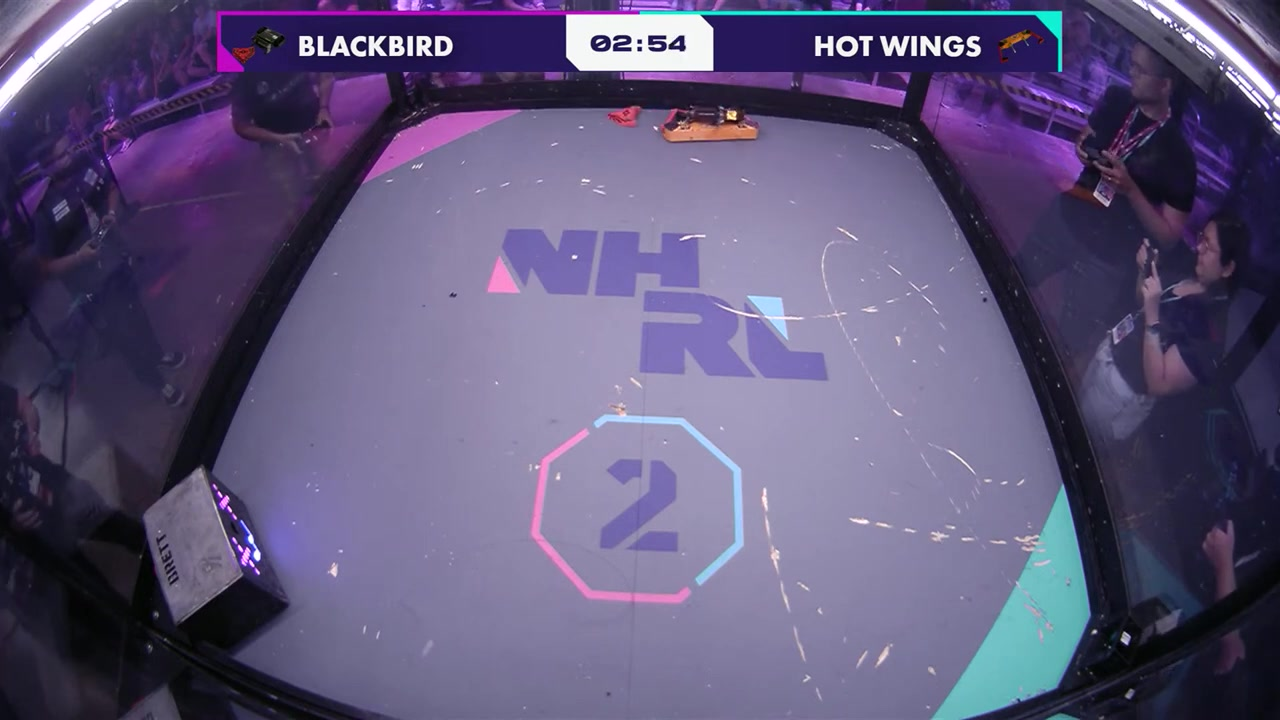combatbot: (662, 103, 760, 130), (661, 120, 761, 144)
housebot: (142, 467, 291, 648)
minibot: (607, 107, 640, 126)
